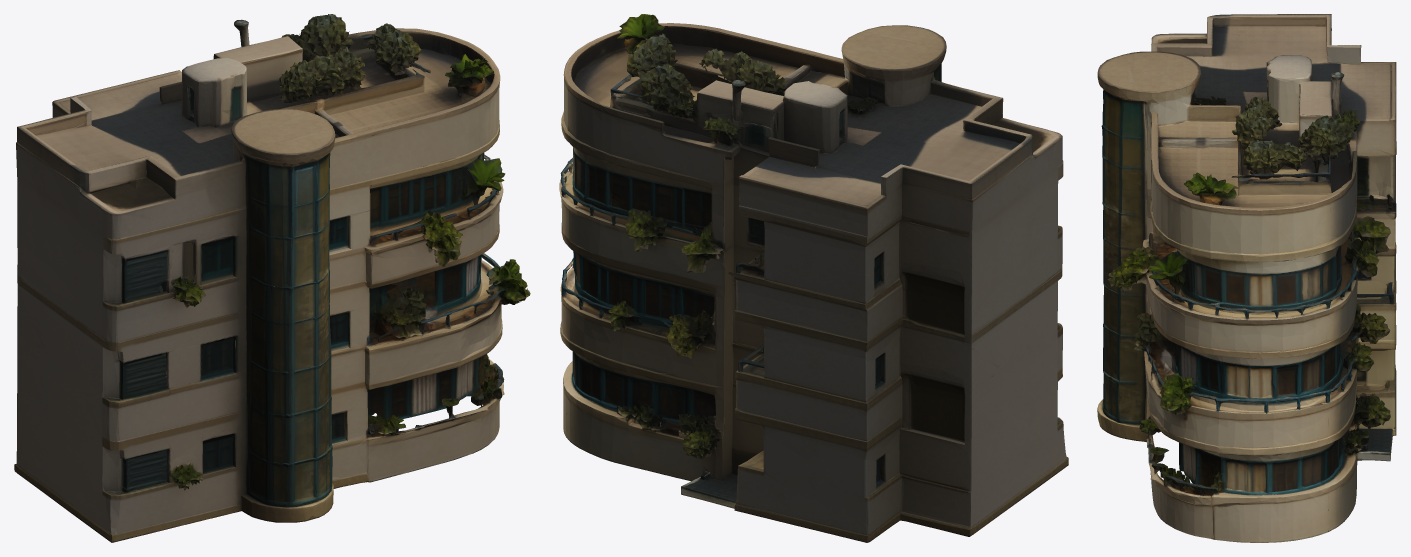
File: bld_bauhaus_b.glb
3 renders of one model, left to right at view 1: azimuth 30°, elevation 25°; view 2: azimuth 150°, elevation 25°; view 3: azimuth 270°, elevation 25°, orthographic. The views are drawn at different scales.
Parts seen in each view (by area): view 1: world; view 2: world; view 3: world.
Boxes of the visible parts, x1,y1,x2,y2 form: world: (14,14,530,542); world: (559,14,1068,542); world: (1097,14,1396,542).
Size of the model in its own units: 0.9913 by 0.8746 by 0.6281.
Materials: 1 (1 with a texture image).
